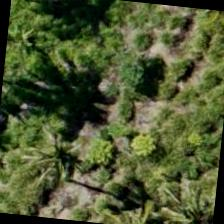Kelapa_Sawit: (9, 110, 108, 209), (149, 176, 218, 223)
